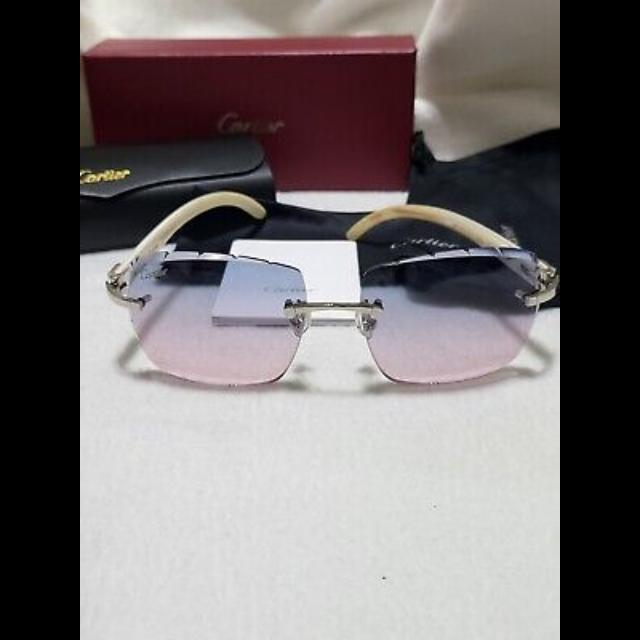glasses: (104, 190, 554, 388)
